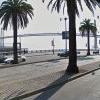Palm tree: (2, 0, 31, 67)
